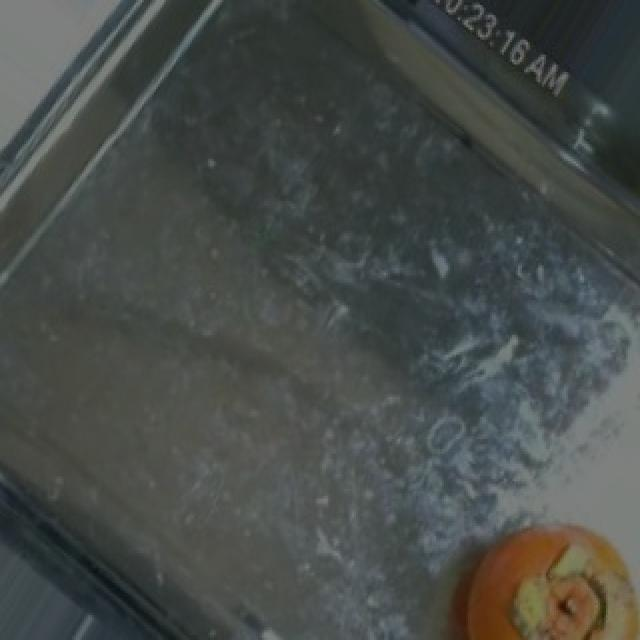Fruit: (418, 503, 638, 640)
